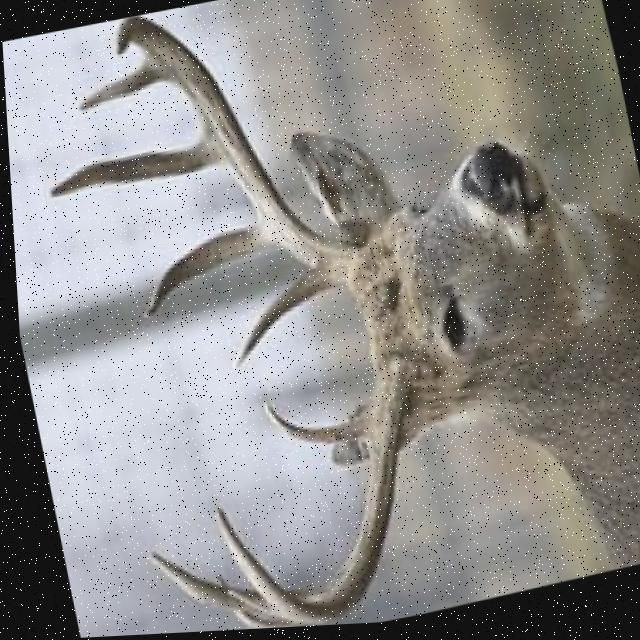L-G1: (224, 272, 335, 375)
L-G2: (138, 223, 276, 321)
L-G3: (44, 133, 224, 200)
L-G4: (73, 58, 173, 114)
R-F: (206, 361, 406, 629)
R-G1: (257, 403, 365, 455)
